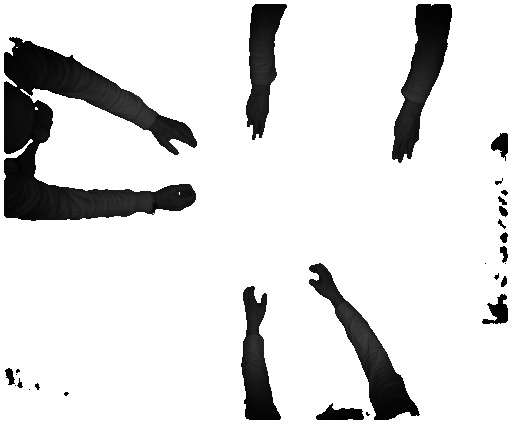hand: (157, 117, 199, 159), (392, 113, 423, 167), (304, 256, 342, 300), (240, 93, 271, 143), (240, 280, 271, 326), (160, 184, 199, 215)
